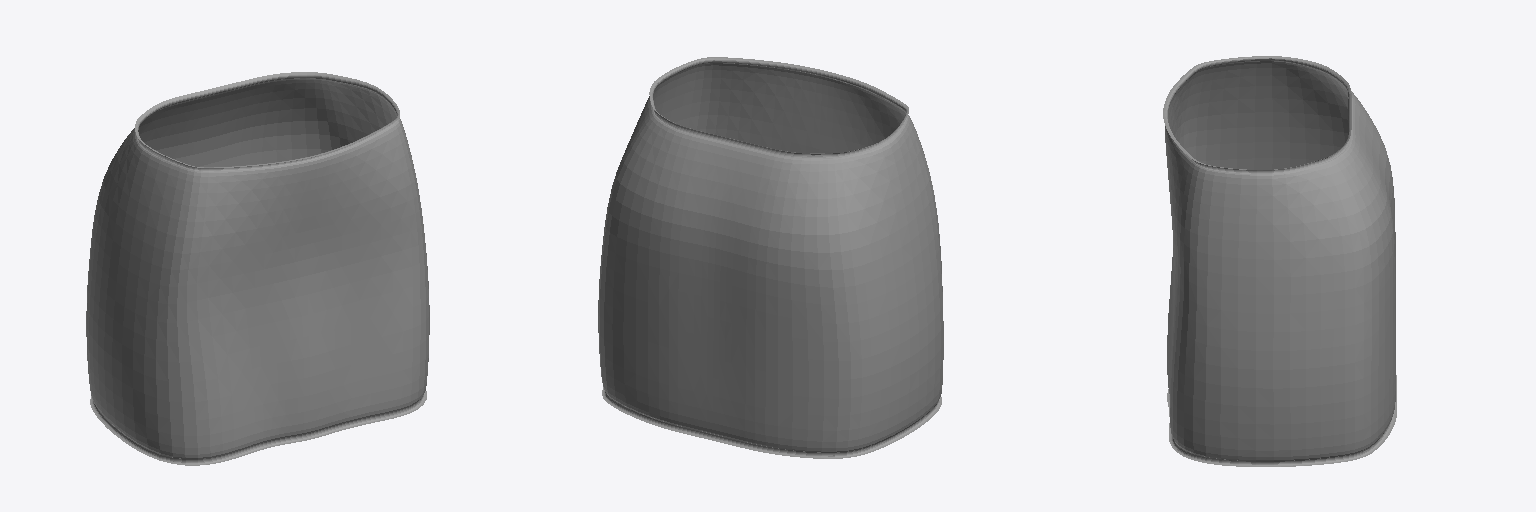
The model's file is short_skirt_denim.obj.
3 renders of one model, left to right at view 1: azimuth 30°, elevation 25°; view 2: azimuth 150°, elevation 25°; view 3: azimuth 270°, elevation 25°, orthographic.
Visible parts, largest first — view 1: A3skirt01; view 2: A3skirt01; view 3: A3skirt01.
Boxes of the visible parts, x1=… form: A3skirt01: x1=86, y1=72, x2=429, y2=465; A3skirt01: x1=598, y1=57, x2=943, y2=458; A3skirt01: x1=1163, y1=56, x2=1396, y2=466.
Size of the model in its own units: 0.2646 by 0.2456 by 0.1815.